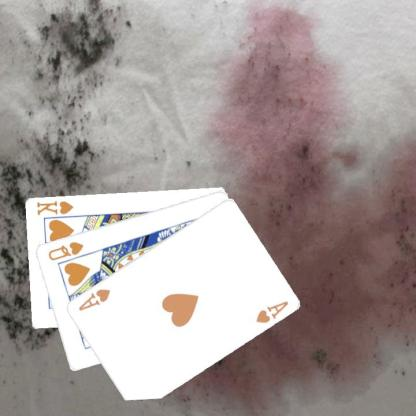AH: (254, 298, 291, 325), (77, 286, 113, 312)
KH: (36, 198, 76, 216)
QH: (47, 238, 86, 262)
